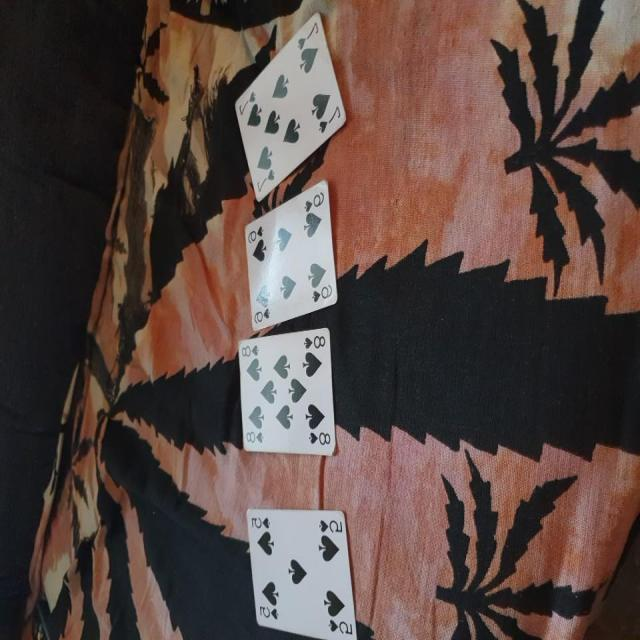5 of spades: (238, 504, 367, 640)
6 of spades: (233, 176, 340, 334)
7 of spades: (230, 9, 356, 201)
8 of spades: (233, 320, 342, 457)
